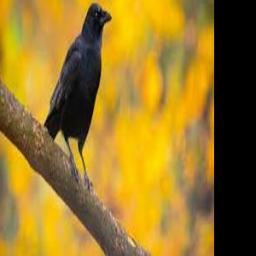Crow: (43, 3, 112, 194)
